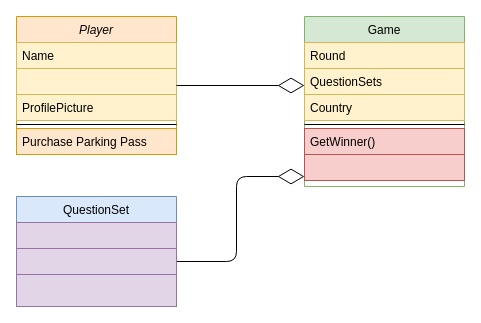
Image size: 481x323. Some labels were removed from this diagram. Each missing label, with the centre of its shape:
CorrectAnswer: (96,290)
IncorrectAnswers: (96,261)
Question: (96,235)
Score: (96,81)
UpdateRound(): (384,167)
